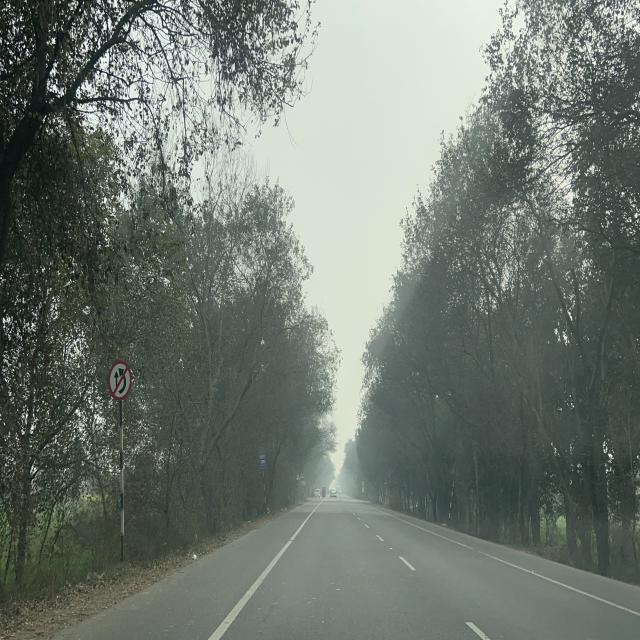OVERTAKING_PROHIBITED: (107, 360, 132, 400)
